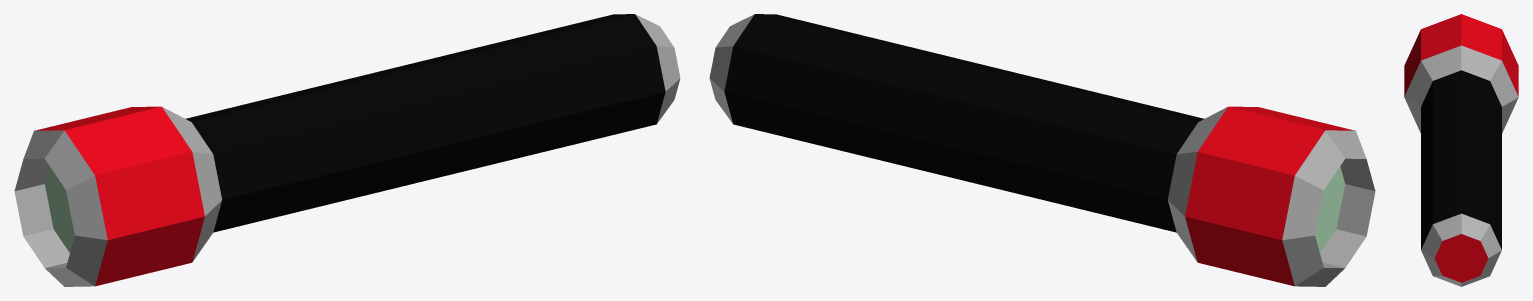
Rendered from flashlight.fbx.
3 renders of one model, left to right at view 1: azimuth 30°, elevation 25°; view 2: azimuth 150°, elevation 25°; view 3: azimuth 270°, elevation 25°, orthographic. The views are drawn at different scales.
Visible parts, largest first — view 1: Cylinder; view 2: Cylinder; view 3: Cylinder.
Boxes of the visible parts, box(x1,y1,x2,y2) form: Cylinder: box(14, 14, 680, 286); Cylinder: box(709, 14, 1375, 286); Cylinder: box(1404, 14, 1518, 286).
Bounding box in the file's own units: 1162 × 283 × 283.
